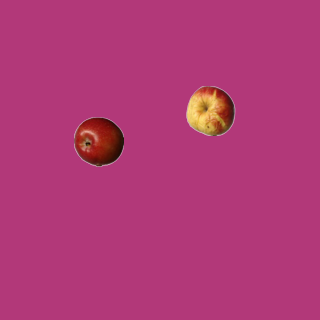Apple Braeburn: (73, 116, 123, 166)
Apple Red Yellow 1: (185, 85, 235, 135)
